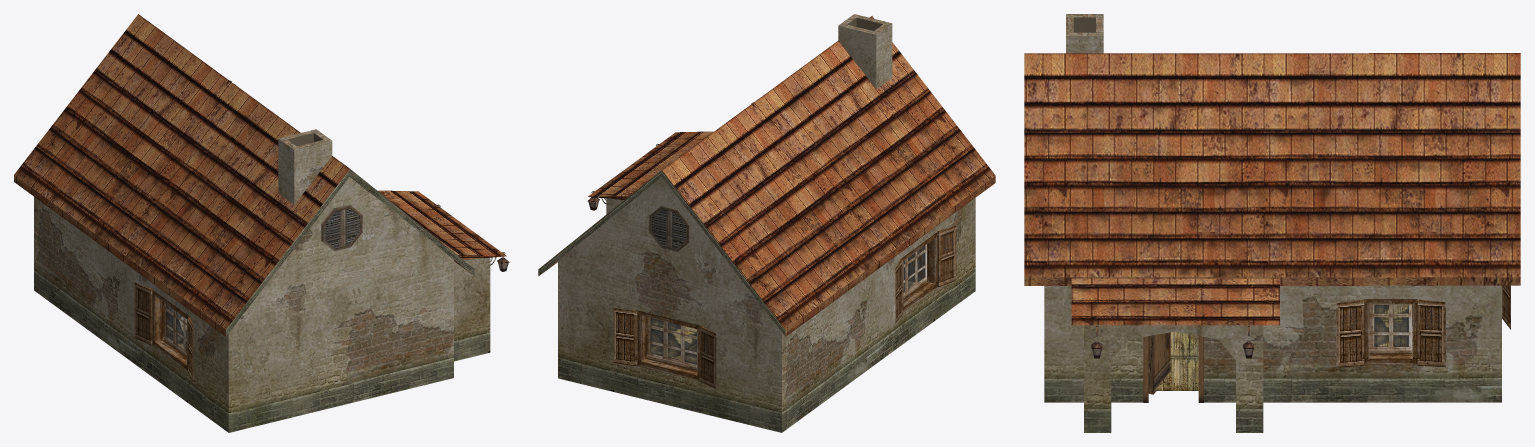
Rendered from farmhouse.glb.
The picture shows the model from 3 angles, left to right: view 1: azimuth 30°, elevation 25°; view 2: azimuth 150°, elevation 25°; view 3: azimuth 270°, elevation 25°; orthographic projection. The views are drawn at different scales.
Visible parts, largest first — view 1: farmhouse; view 2: farmhouse; view 3: farmhouse.
Part boxes in pixels (x1=…): farmhouse: x1=14, y1=14, x2=509, y2=432; farmhouse: x1=538, y1=14, x2=995, y2=432; farmhouse: x1=1024, y1=14, x2=1520, y2=432.
Size of the model in its own units: 8.2 by 6.62 by 9.61.
13 materials, 13 textured.
